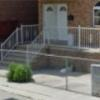stairs: (0, 44, 49, 68)
